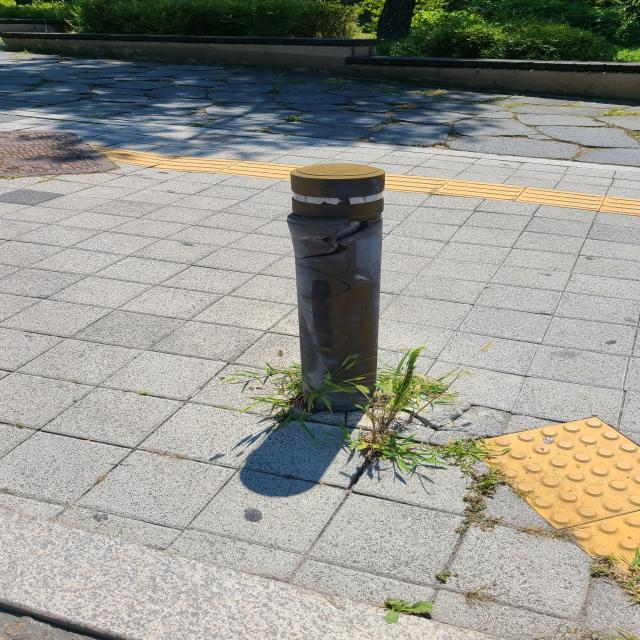pole: (286, 162, 384, 412)
